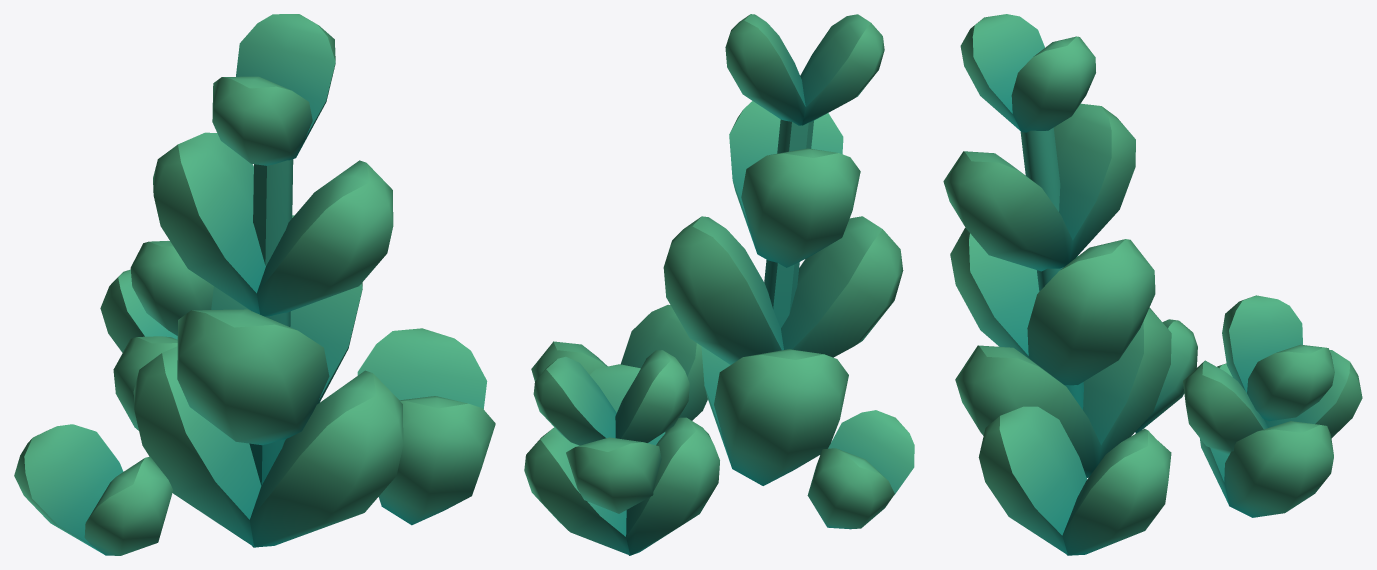
The model's file is Plant5.glb.
3 renders of one model, left to right at view 1: azimuth 30°, elevation 25°; view 2: azimuth 150°, elevation 25°; view 3: azimuth 270°, elevation 25°, orthographic. The views are drawn at different scales.
Parts seen in each view (by area): view 1: Plant5; view 2: Plant5; view 3: Plant5.
Part boxes in pixels (bbox=[...]): Plant5: bbox=[14, 14, 495, 555]; Plant5: bbox=[524, 14, 914, 555]; Plant5: bbox=[943, 14, 1362, 555].
Bounding box in the file's own units: 0.653 × 0.7995 × 0.6565.
